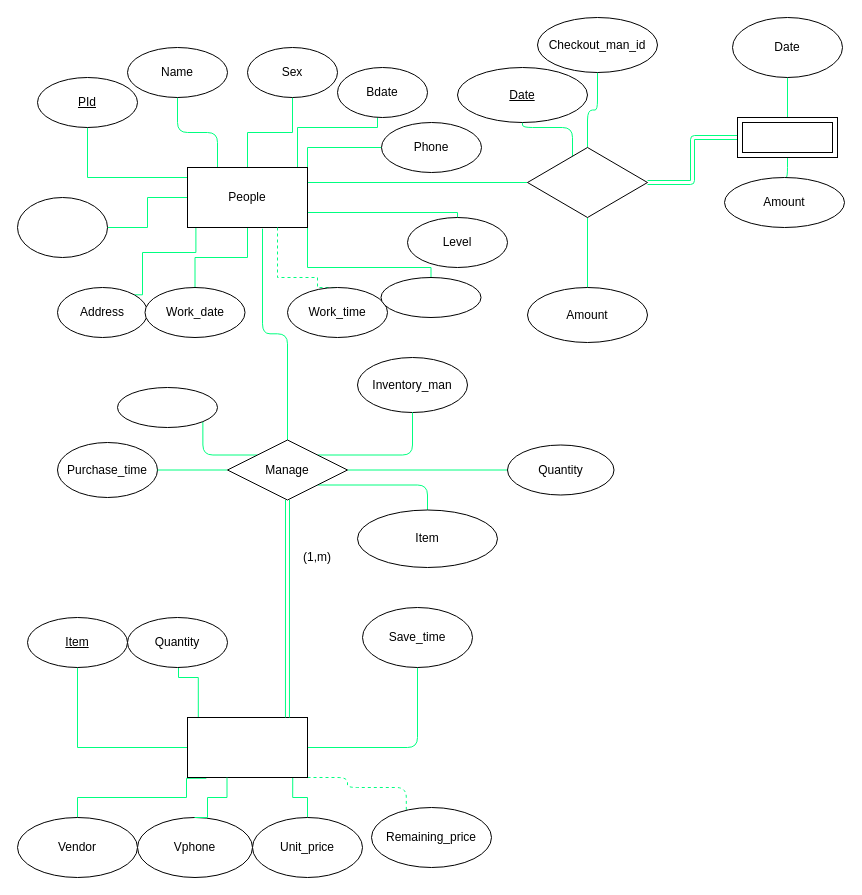
The diagram is 862 pixels wide and 895 high, and some of its shapes have lost their labels. The shapes that lost their labels are listed below. From the top down, each one's centre as x and y in pixels, then its label:
the point at 787,137: Checkout
the point at 587,182: Check_tansaction
the point at 62,227: Email
the point at 430,297: Salary
the point at 167,407: Mid
the point at 247,747: Warehoues
